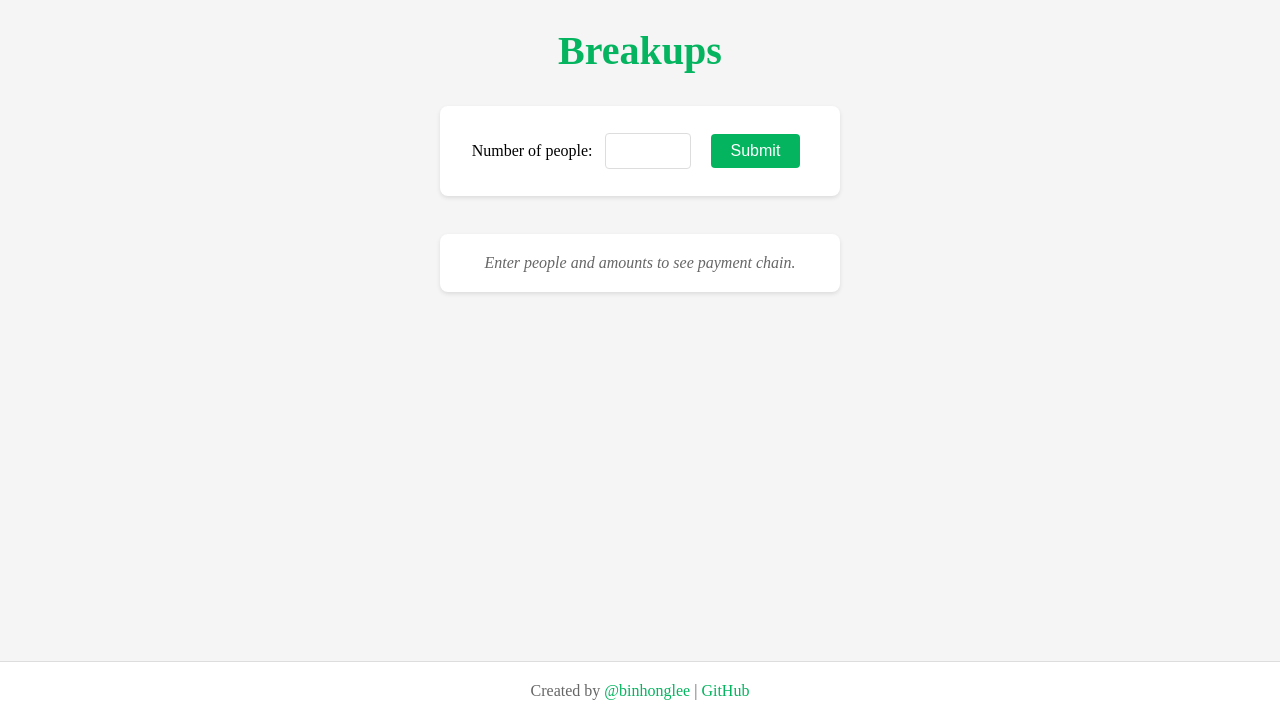
Test case: Home › creates person forms for valid input
The width and height of the screenshot is (1280, 720).
Type "3" into the field at {"x": 648, "y": 151}, box [604,133,690,169]
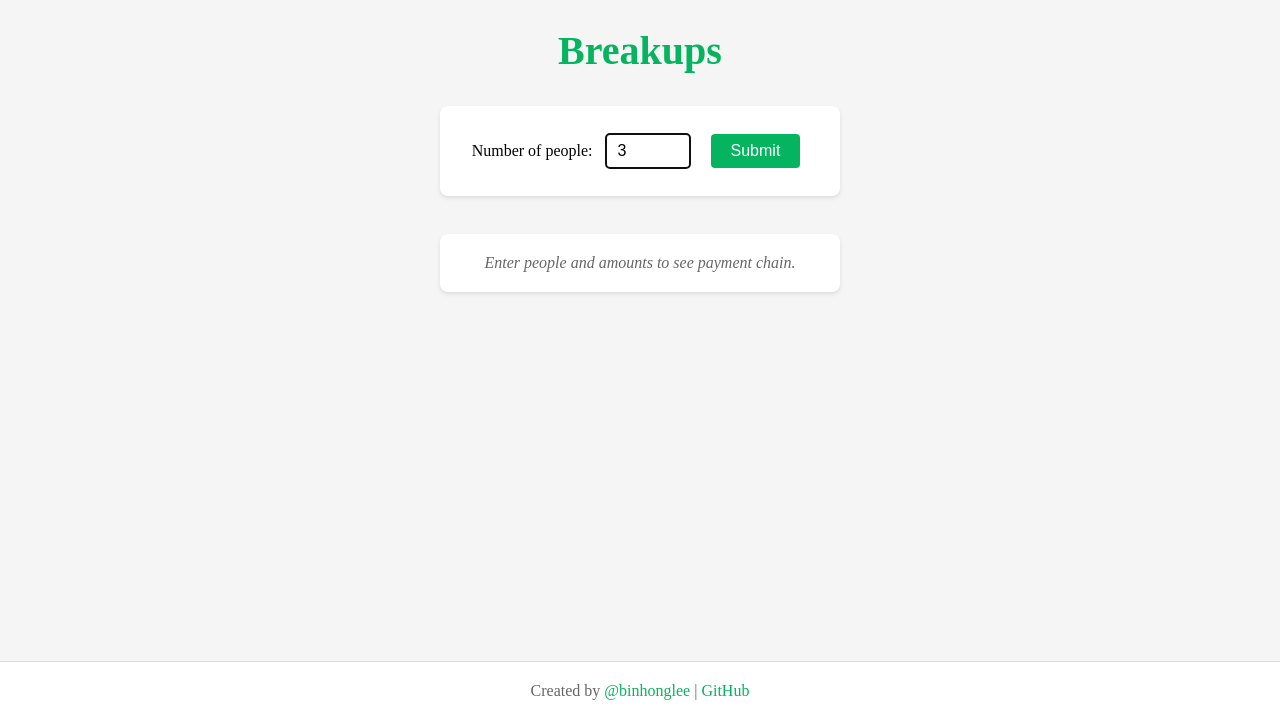
Click the button "Submit" at {"x": 755, "y": 151}, box [710,134,800,168]
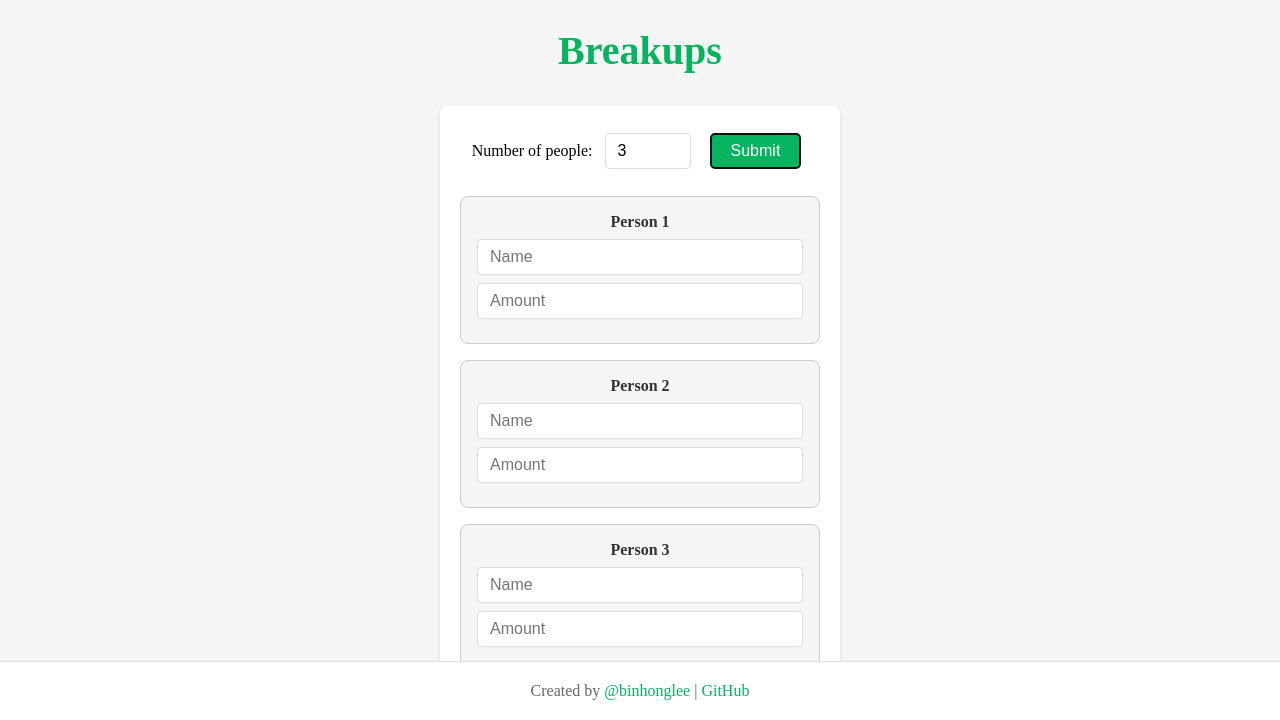
Expected: the text "Person 1" is shown, [610,213,670,230]
Expected: the text "Person 2" is shown, [610,377,670,394]
Expected: the text "Person 3" is shown, [610,541,670,558]
